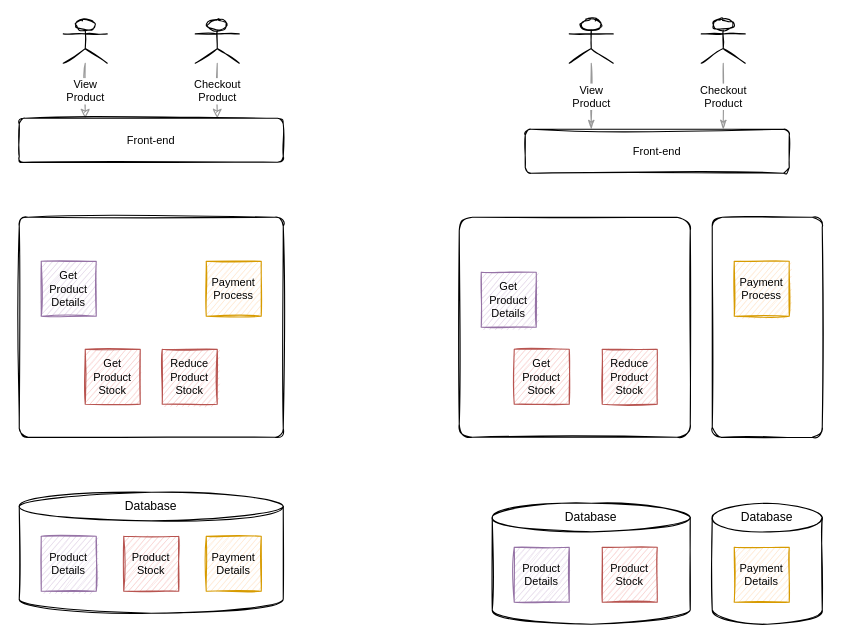
Image size: 842x644. Some labels were removed from this diagram. Here are the shapes that lost their labels. From the top down, the box of each, then its label:
(18, 216, 283, 437): Backend Monolith Service
(458, 216, 690, 437): Inventory Service
(711, 216, 822, 437): Checkout Service
